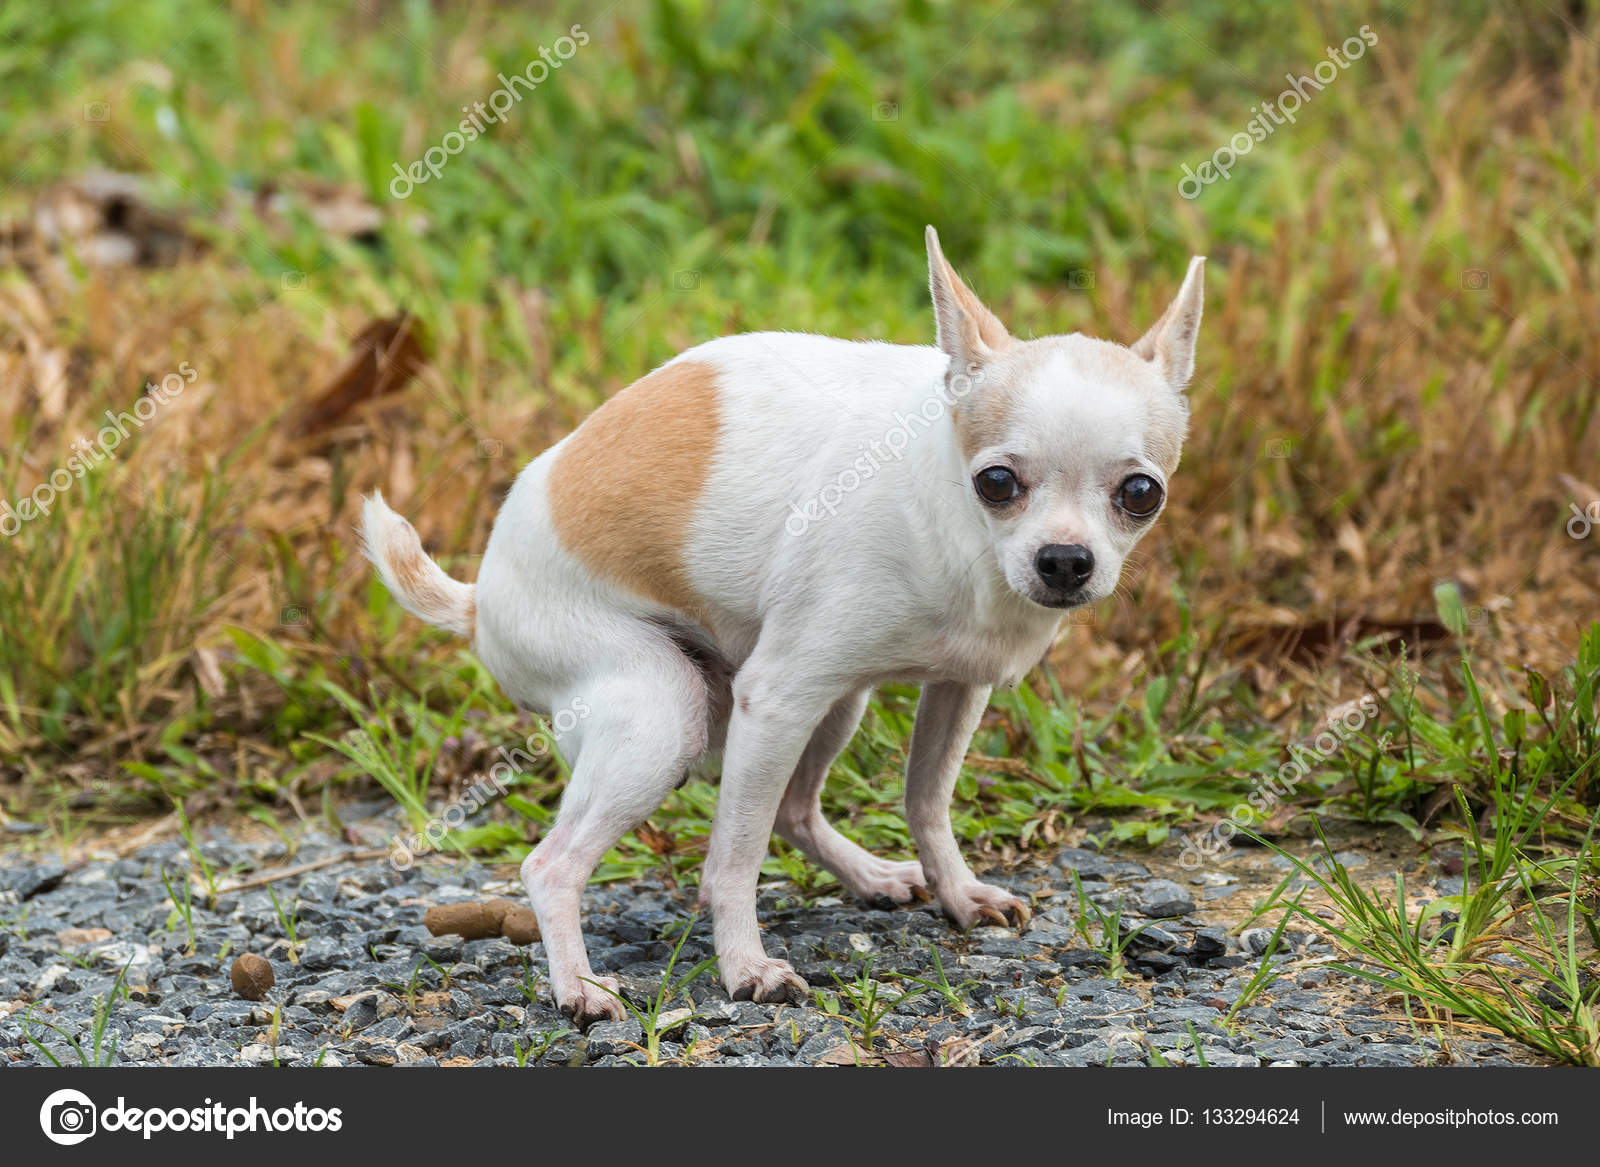dog_pooping: (349, 215, 1226, 1030)
